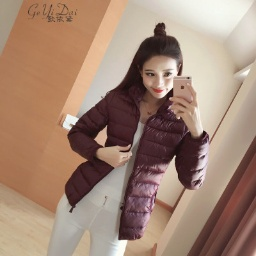face: (125, 34, 186, 102)
